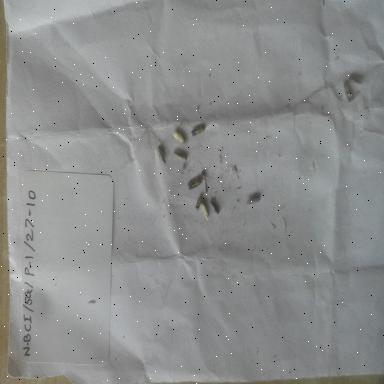pbw: (338, 80, 358, 106), (242, 189, 264, 211), (171, 146, 192, 166), (168, 124, 188, 144), (189, 122, 207, 138), (186, 176, 204, 192), (155, 144, 167, 166), (210, 199, 222, 218), (348, 74, 364, 88), (194, 194, 206, 211), (200, 201, 210, 220)
